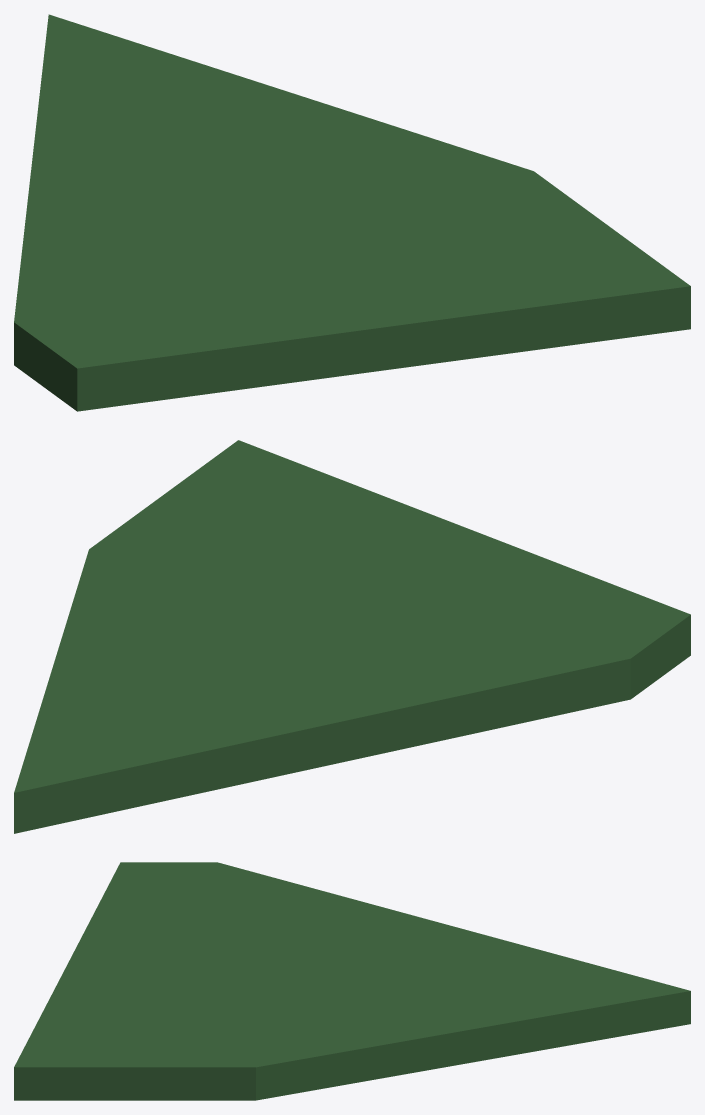
File: x_proval_00_198_1_rmstrd.fbx
The picture shows the model from 3 angles, top to bottom: view 1: azimuth 30°, elevation 25°; view 2: azimuth 150°, elevation 25°; view 3: azimuth 270°, elevation 25°; orthographic projection. The views are drawn at different scales.
Visible parts, largest first — view 1: x_proval_00_198_1_rmstrd1; view 2: x_proval_00_198_1_rmstrd1; view 3: x_proval_00_198_1_rmstrd1.
Part boxes in pixels (left/top/right/bottom): x_proval_00_198_1_rmstrd1: left=14, top=14, right=690, bottom=411; x_proval_00_198_1_rmstrd1: left=14, top=440, right=690, bottom=833; x_proval_00_198_1_rmstrd1: left=14, top=862, right=690, bottom=1100.
Size of the model in its own units: 2.65 by 0.2 by 3.7.
